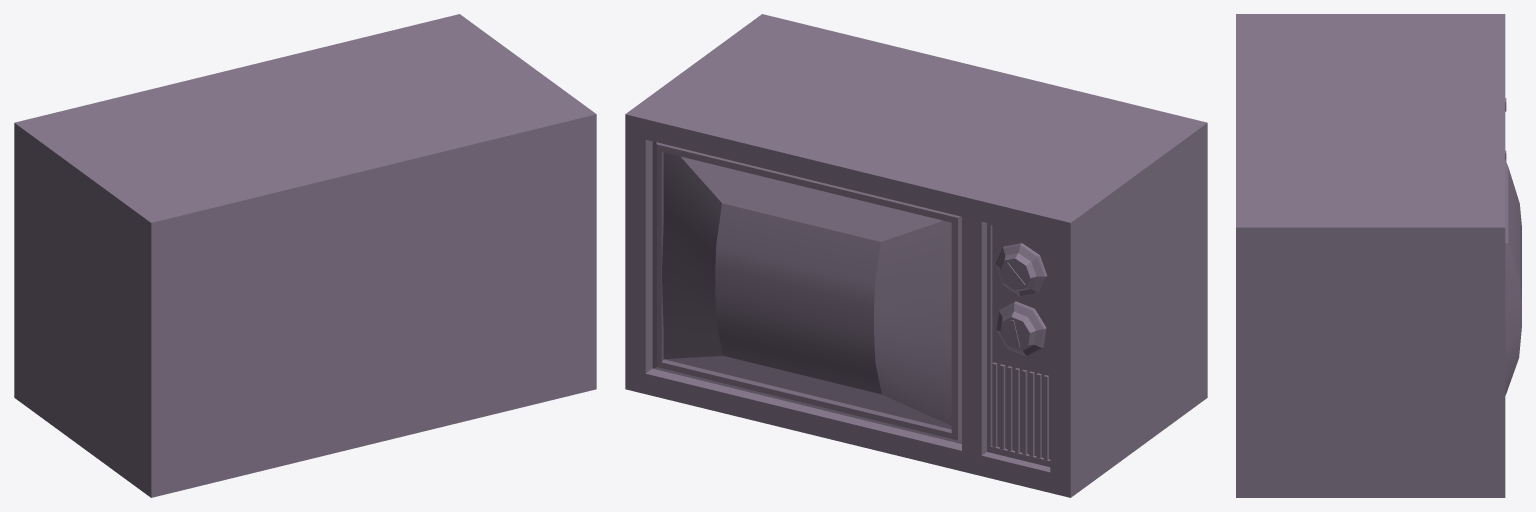
File: Sloth_OldTV.fbx
3 views of the same model, side by side, from view 1: azimuth 30°, elevation 25°; view 2: azimuth 150°, elevation 25°; view 3: azimuth 270°, elevation 25° (orthographic).
Visible parts, largest first — view 1: Tv; view 2: Tv; view 3: Tv.
Boxes of the visible parts, x1,y1,x2,y2 form: Tv: [14, 14, 596, 497]; Tv: [625, 14, 1207, 497]; Tv: [1236, 14, 1521, 497].
Size of the model in its own units: 1.99 by 1.18 by 1.13.
